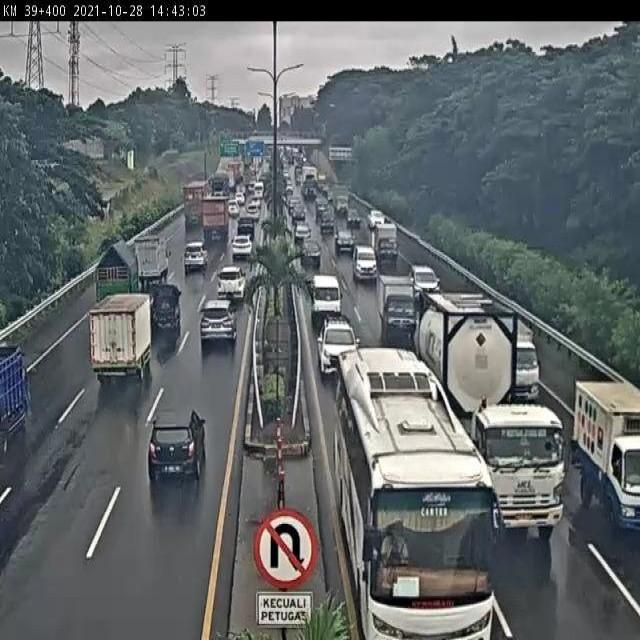bus-l-: (334, 345, 496, 640)
car: (149, 409, 204, 482), (319, 317, 359, 383), (199, 297, 238, 347), (311, 274, 342, 330), (409, 264, 443, 307), (215, 266, 247, 298), (353, 245, 377, 287), (299, 239, 324, 272), (184, 242, 208, 274), (335, 230, 358, 262), (232, 231, 253, 256)
truck-s-: (89, 289, 155, 391), (93, 239, 141, 309), (377, 272, 417, 337), (513, 320, 538, 401), (133, 232, 173, 281), (148, 284, 180, 332), (373, 222, 401, 266)
truck-xl-: (415, 296, 567, 539)
